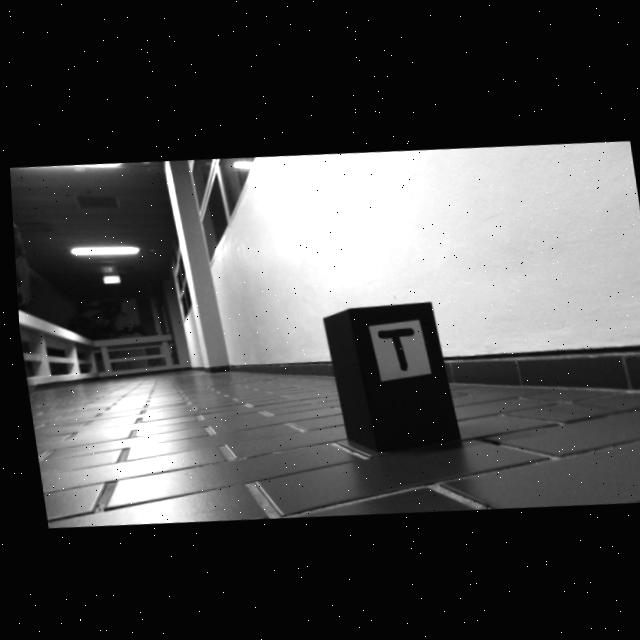T: (374, 324, 411, 366)
